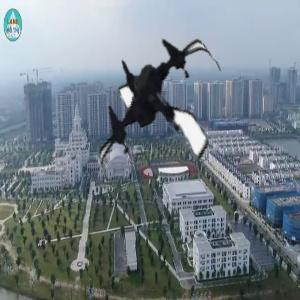drone: (81, 31, 233, 183)
